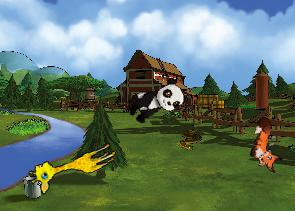fox: (244, 115, 291, 174)
giraffe: (25, 131, 119, 197)
panda: (122, 74, 189, 129)
